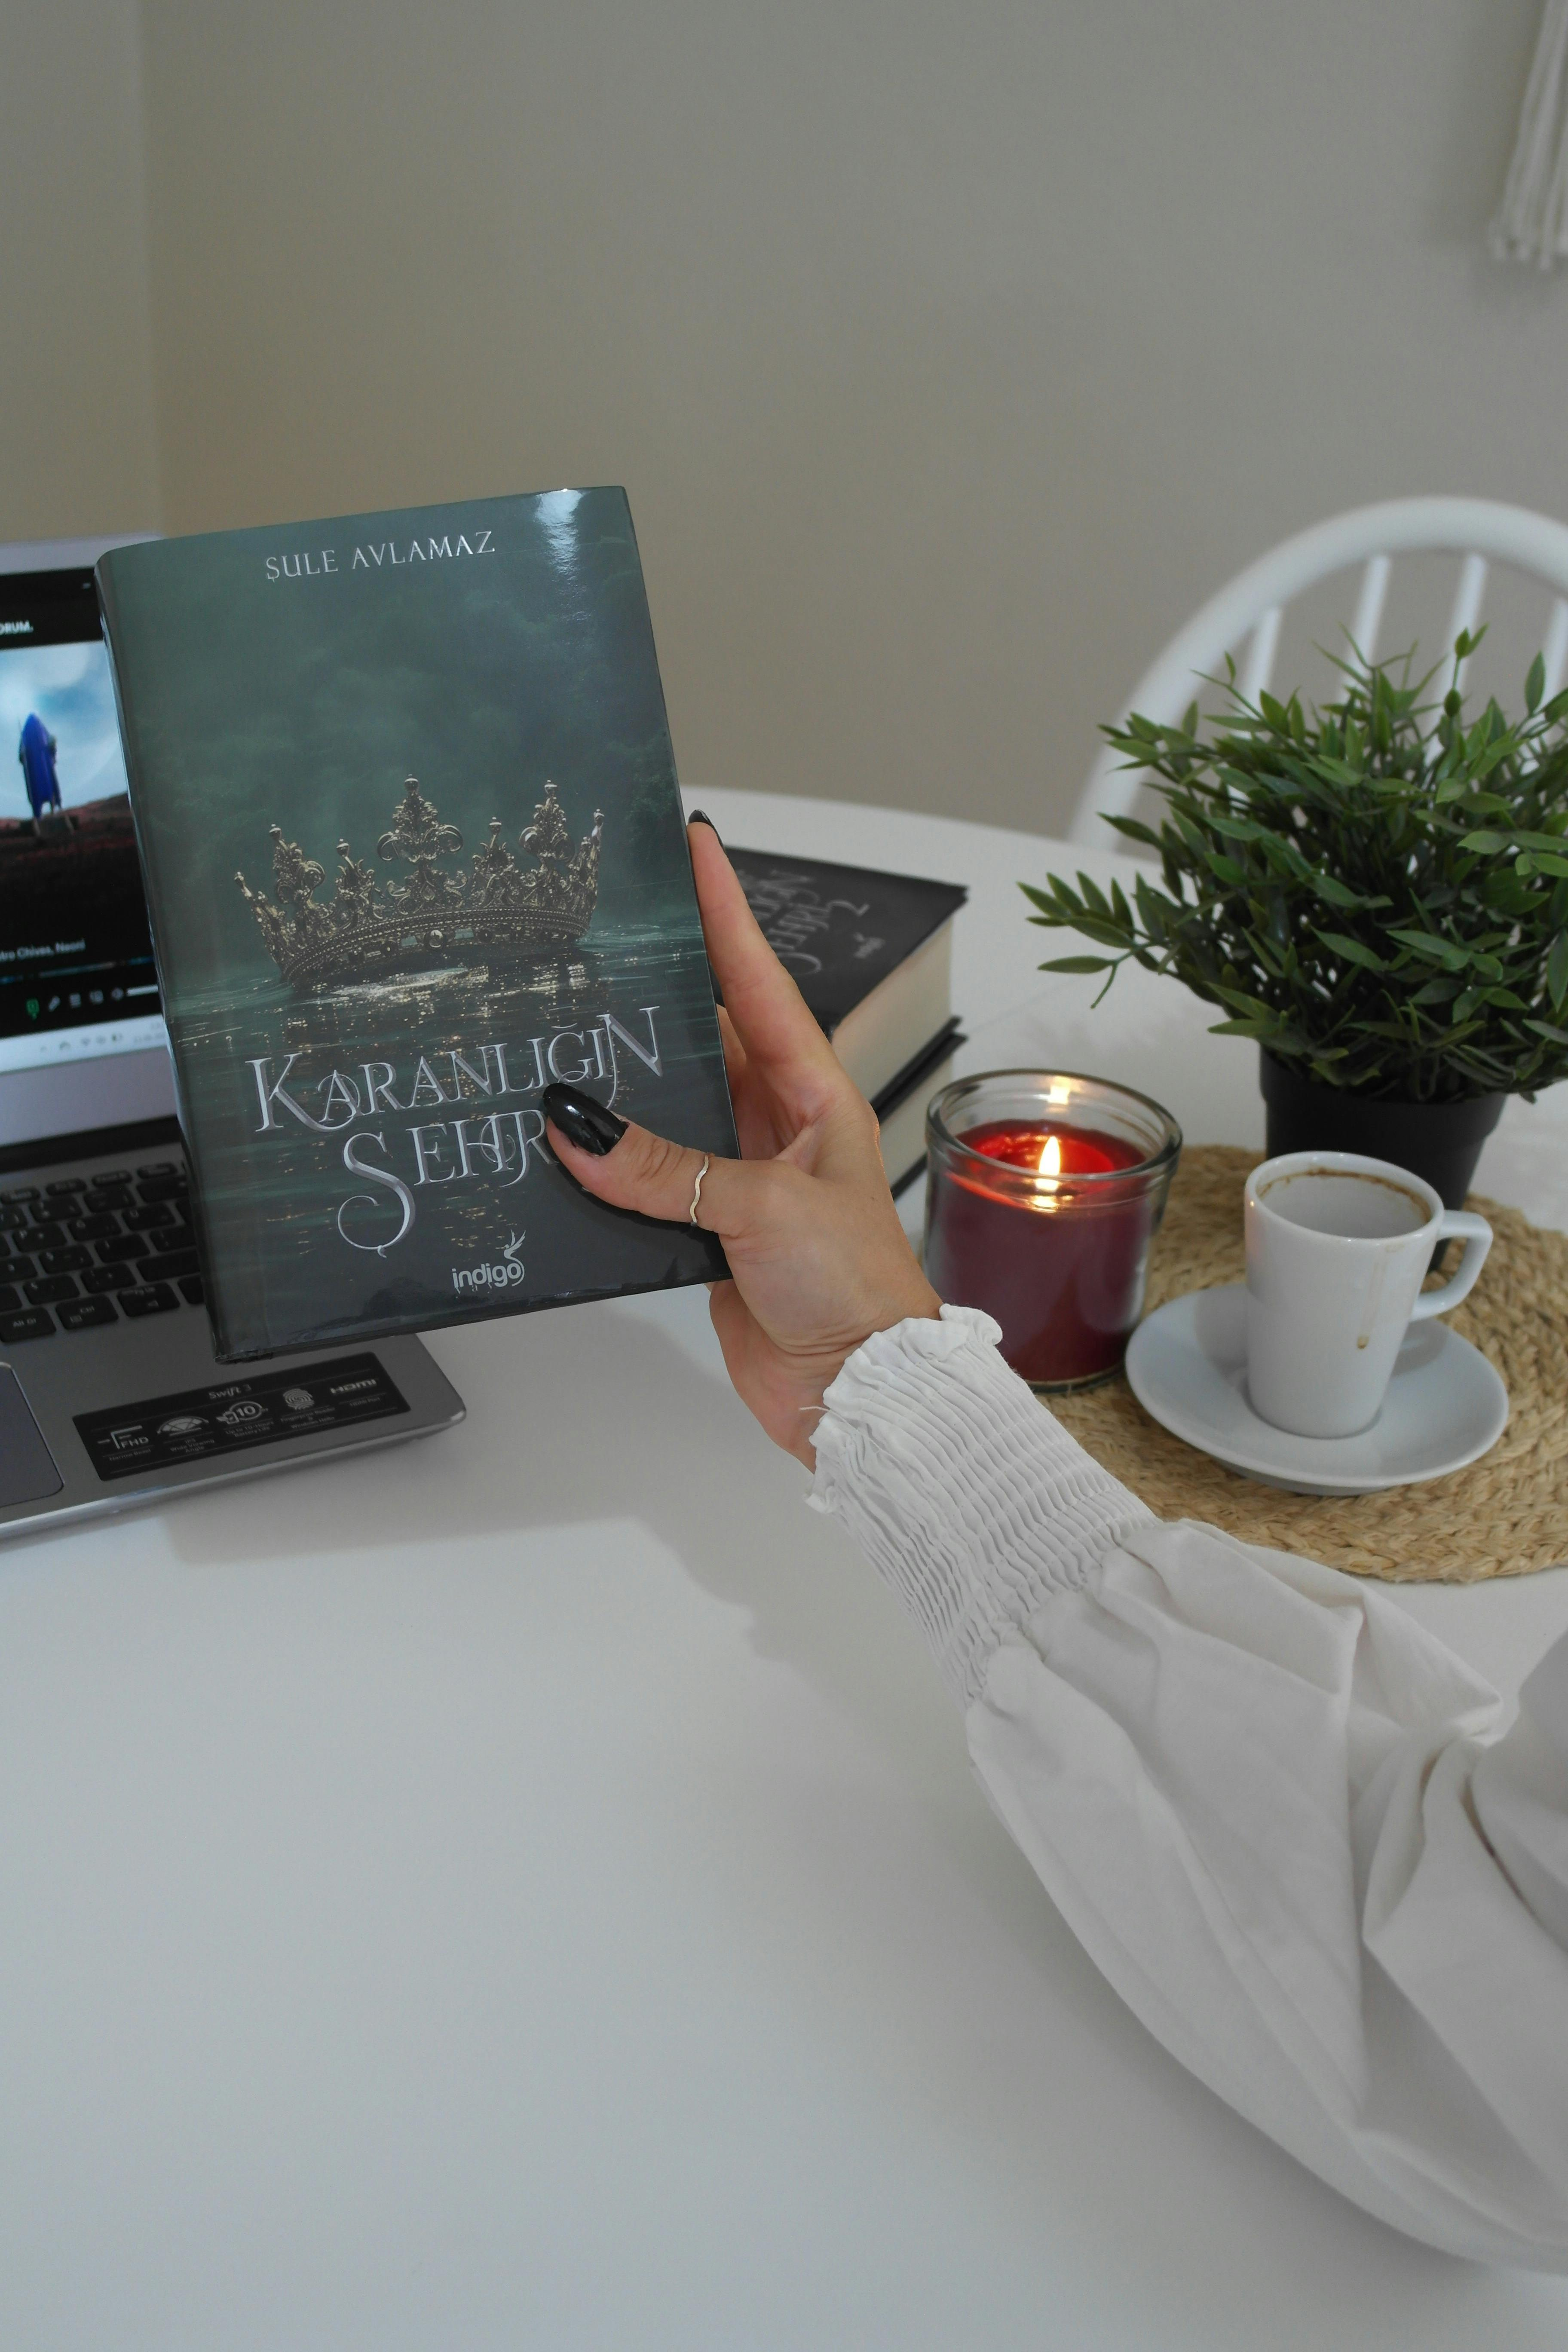book: (59, 478, 744, 1323)
